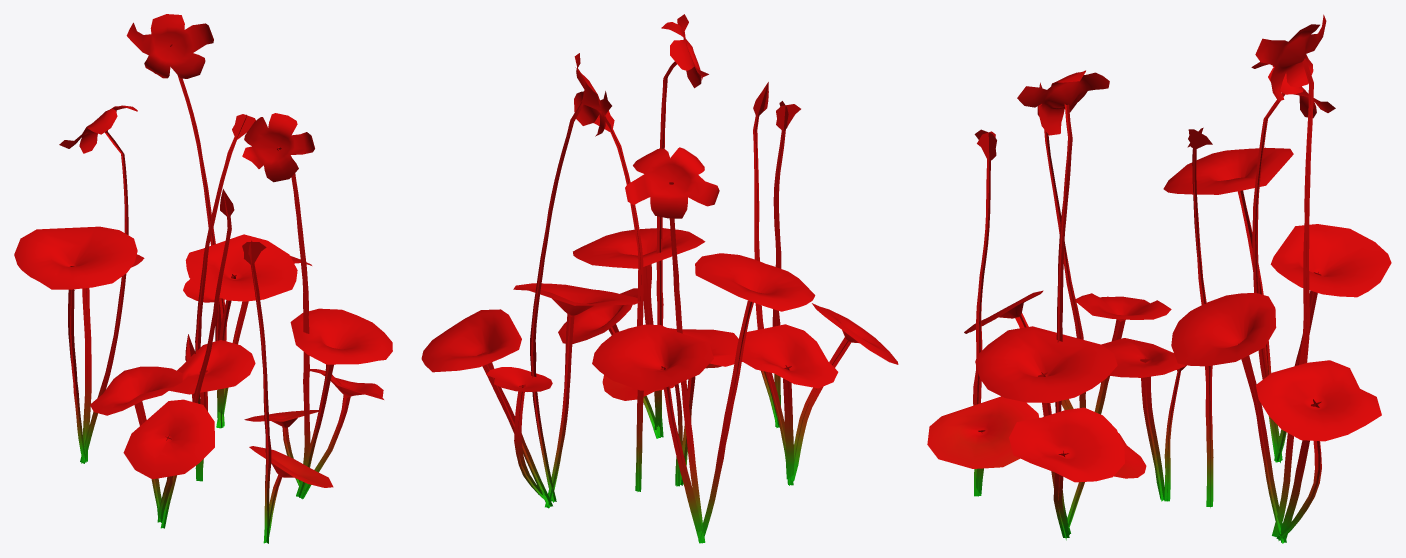
File: Native Violet_LOD1_Var15_ultkcfeja.fbx
3 renders of one model, left to right at view 1: azimuth 30°, elevation 25°; view 2: azimuth 150°, elevation 25°; view 3: azimuth 270°, elevation 25°, orthographic. The views are drawn at different scales.
Visible parts, largest first — view 1: _piov_Var15_LOD1; view 2: _piov_Var15_LOD1; view 3: _piov_Var15_LOD1.
Boxes of the visible parts, left/top/right/bottom form: _piov_Var15_LOD1: left=14, top=14, right=392, bottom=543; _piov_Var15_LOD1: left=421, top=14, right=898, bottom=543; _piov_Var15_LOD1: left=927, top=14, right=1391, bottom=543.
Size of the model in its own units: 17.72 by 22.61 by 18.98.
